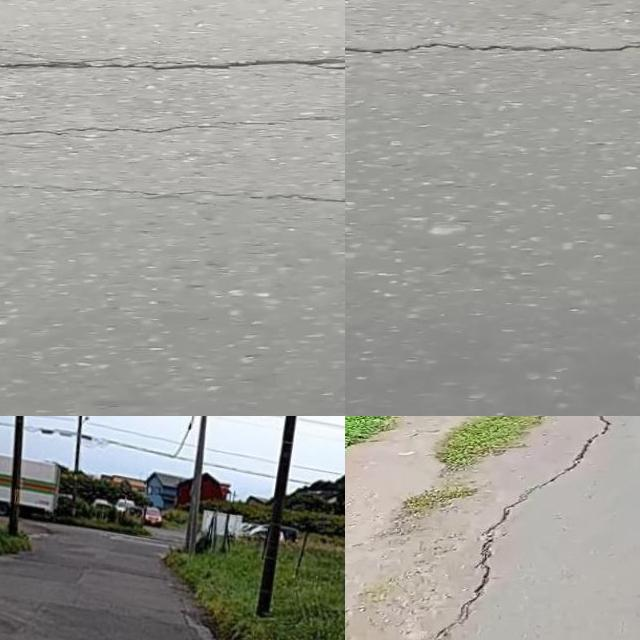Melintang: (0, 44, 345, 86), (345, 19, 640, 67)
Memanjang: (424, 416, 622, 640)
